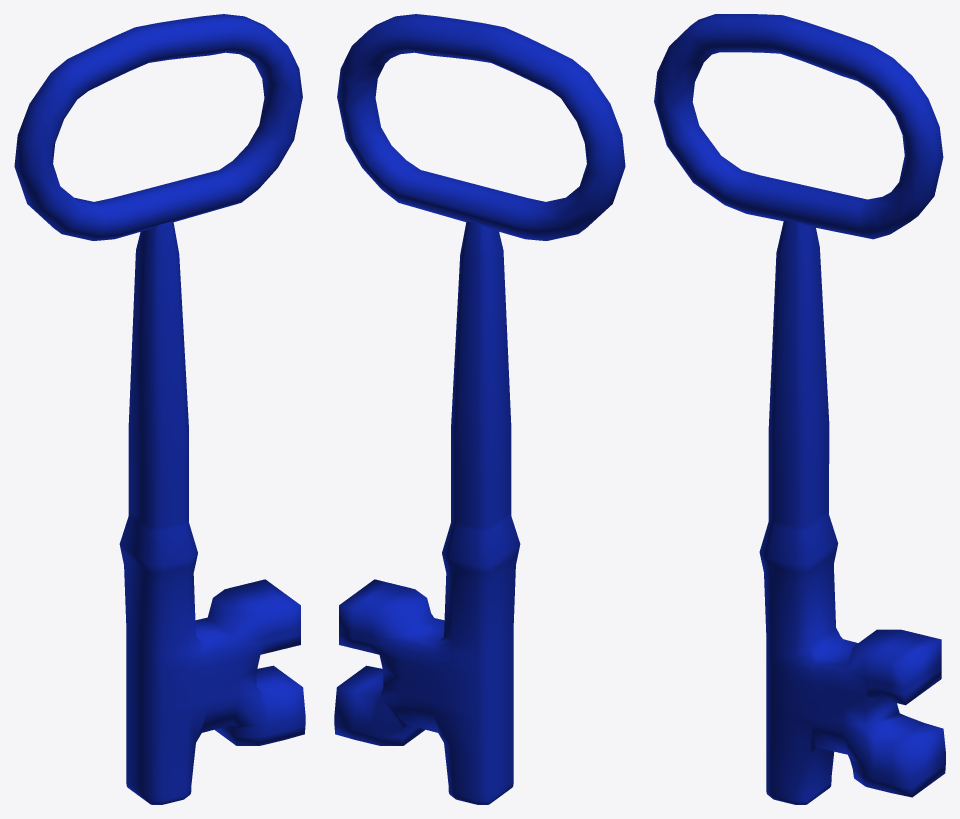
Rendered from blue.fbx.
3 views of the same model, side by side, from view 1: azimuth 30°, elevation 25°; view 2: azimuth 150°, elevation 25°; view 3: azimuth 330°, elevation 25° (orthographic).
Visible parts, largest first — view 1: key_blue; view 2: key_blue; view 3: key_blue.
Part boxes in pixels (left/top/right/bottom): key_blue: left=14, top=14, right=305, bottom=804; key_blue: left=334, top=14, right=625, bottom=804; key_blue: left=654, top=14, right=945, bottom=804.
Bounding box in the file's own units: 40.31 × 106 × 9.17.
